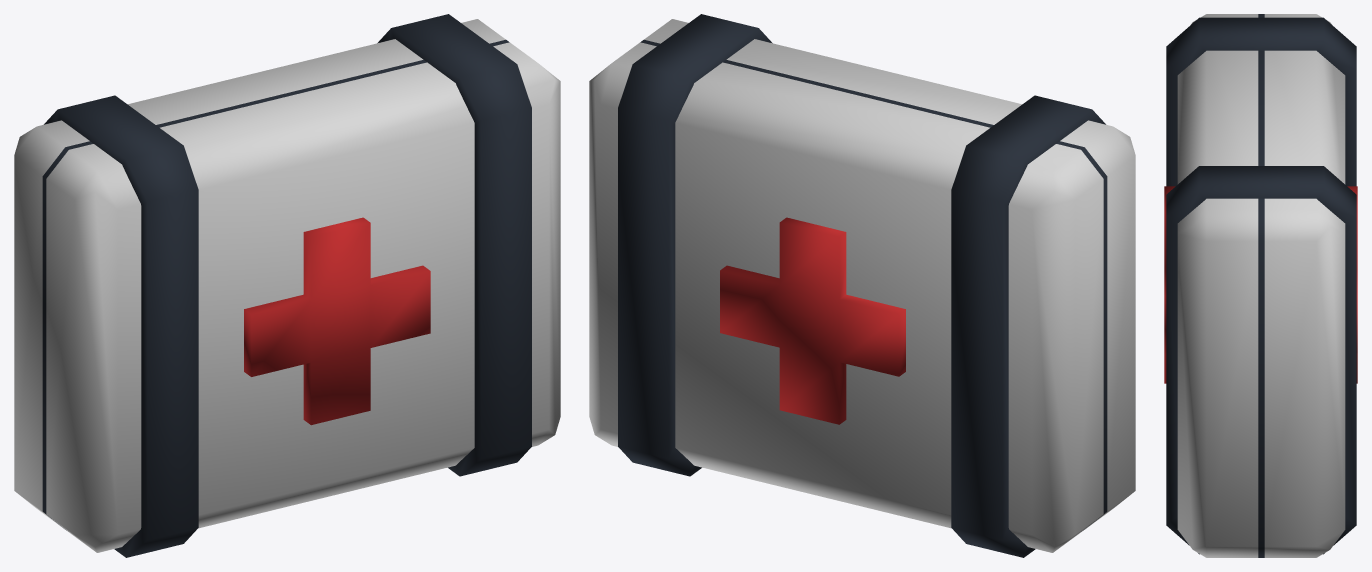
Rendered from MEDIKIT 3.fbx.
3 renders of one model, left to right at view 1: azimuth 30°, elevation 25°; view 2: azimuth 150°, elevation 25°; view 3: azimuth 270°, elevation 25°, orthographic. The views are drawn at different scales.
Parts seen in each view (by area): view 1: Cube.001; view 2: Cube.001; view 3: Cube.001.
Boxes of the visible parts, x1,y1,x2,y2 form: Cube.001: (14, 14, 560, 557); Cube.001: (589, 14, 1135, 557); Cube.001: (1164, 14, 1357, 557).
Size of the model in its own units: 75.78 by 157 by 200.
